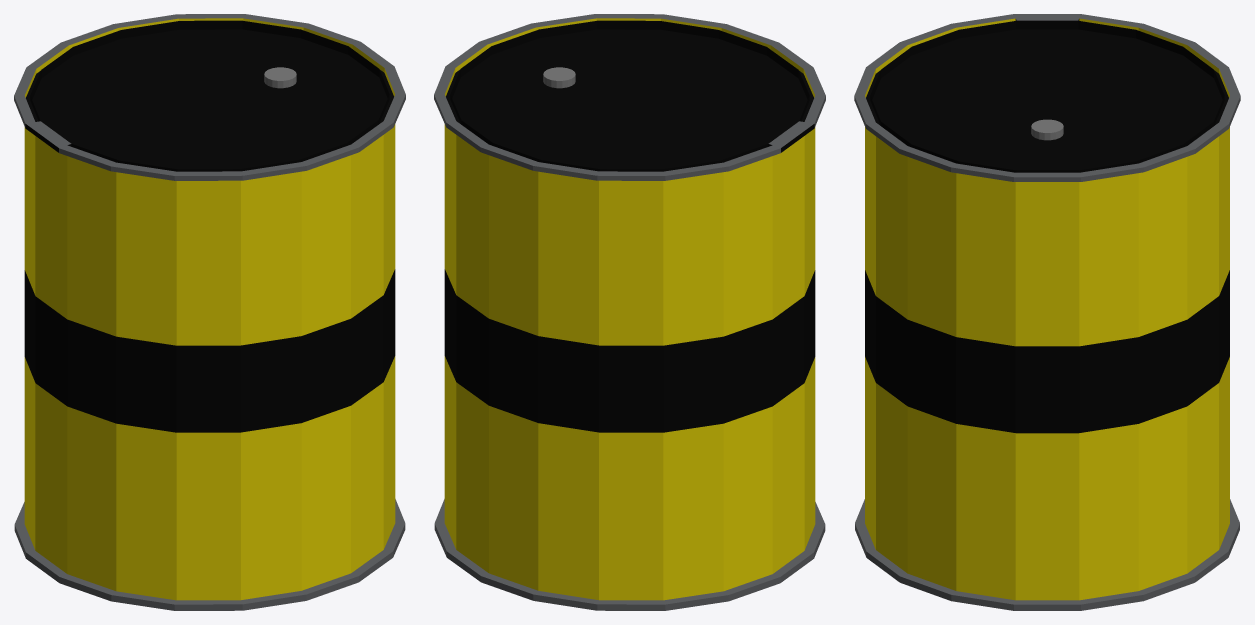
Rendered from varil.fbx.
3 renders of one model, left to right at view 1: azimuth 30°, elevation 25°; view 2: azimuth 150°, elevation 25°; view 3: azimuth 270°, elevation 25°, orthographic.
Parts seen in each view (by area): view 1: Silindir; view 2: Silindir; view 3: Silindir.
Part boxes in pixels (bbox=[...]): Silindir: bbox=[14, 14, 405, 610]; Silindir: bbox=[434, 14, 825, 610]; Silindir: bbox=[854, 14, 1240, 610].
Size of the model in its own units: 80 by 100 by 80.
